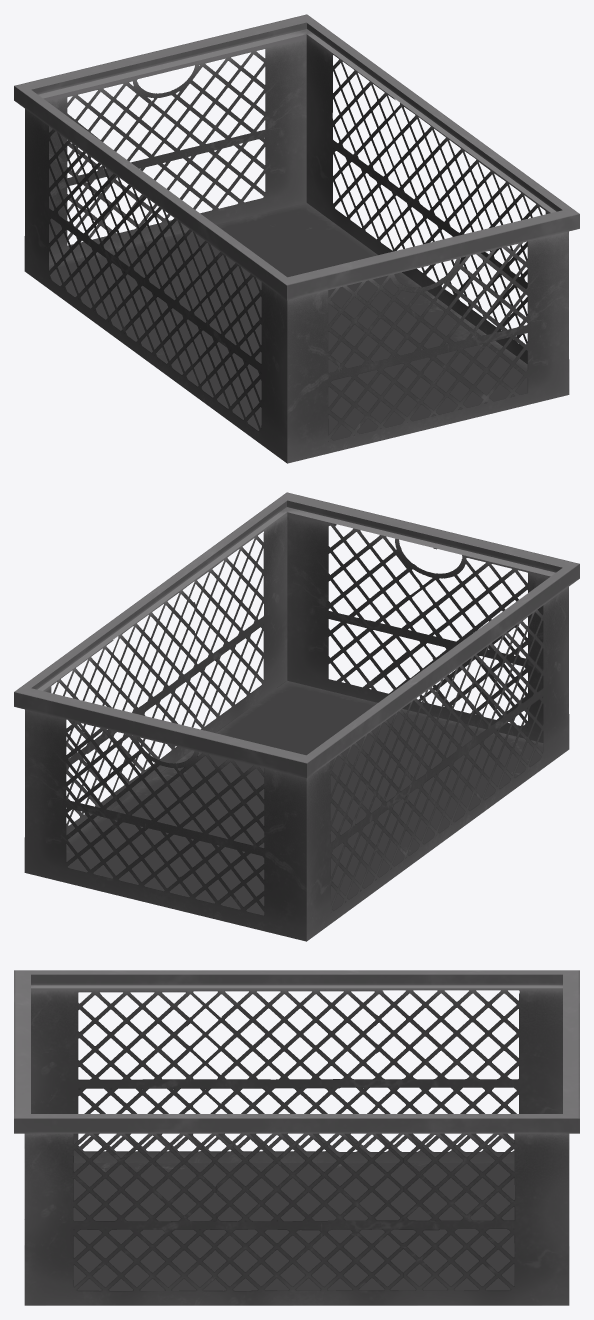
File: caja vacia.fbx
3 views of the same model, one above another, from view 1: azimuth 30°, elevation 25°; view 2: azimuth 150°, elevation 25°; view 3: azimuth 270°, elevation 25° (orthographic). The views are drawn at different scales.
Visible parts, largest first — view 1: caja vacia; view 2: caja vacia; view 3: caja vacia.
Boxes of the visible parts, x1,y1,x2,y2 form: caja vacia: [14, 14, 579, 463]; caja vacia: [14, 492, 579, 941]; caja vacia: [14, 970, 579, 1305].
Size of the model in its own units: 46.9 by 28.02 by 75.64.
